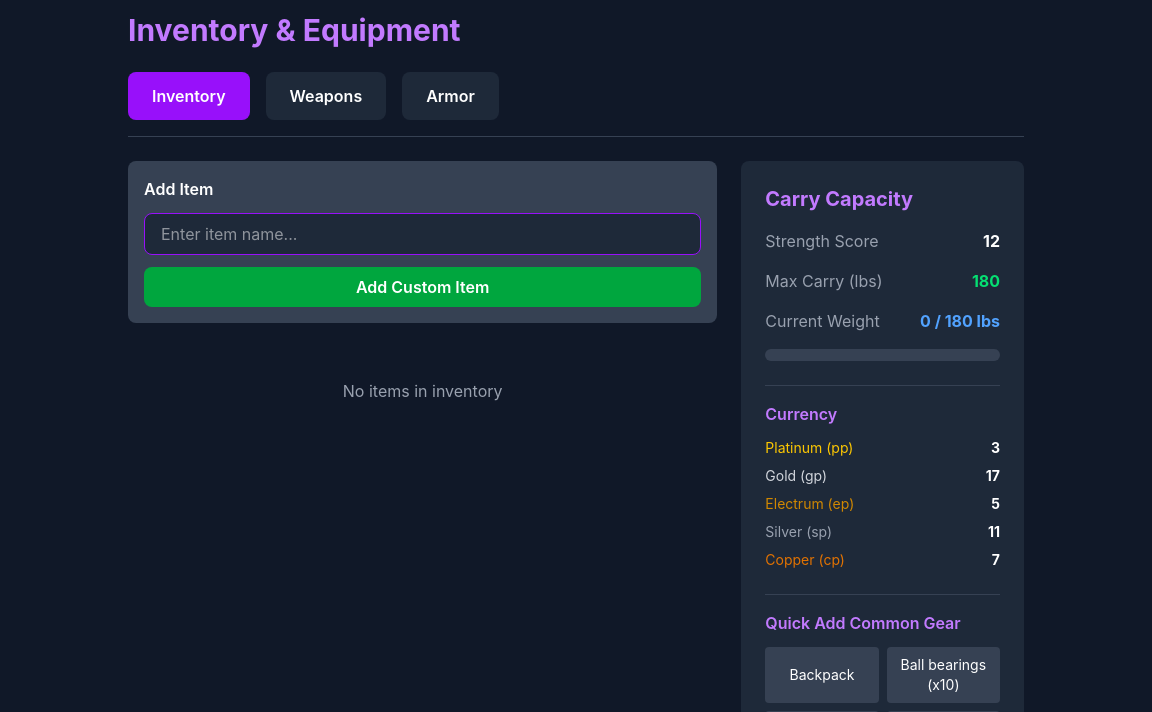
Test: InventoryManager › increments, decrements, and removes an inventory item
The image size is (1152, 712).
In the field with placeholder "Enter item name...": (423,234) [144,213,701,255], type "Custom compass"
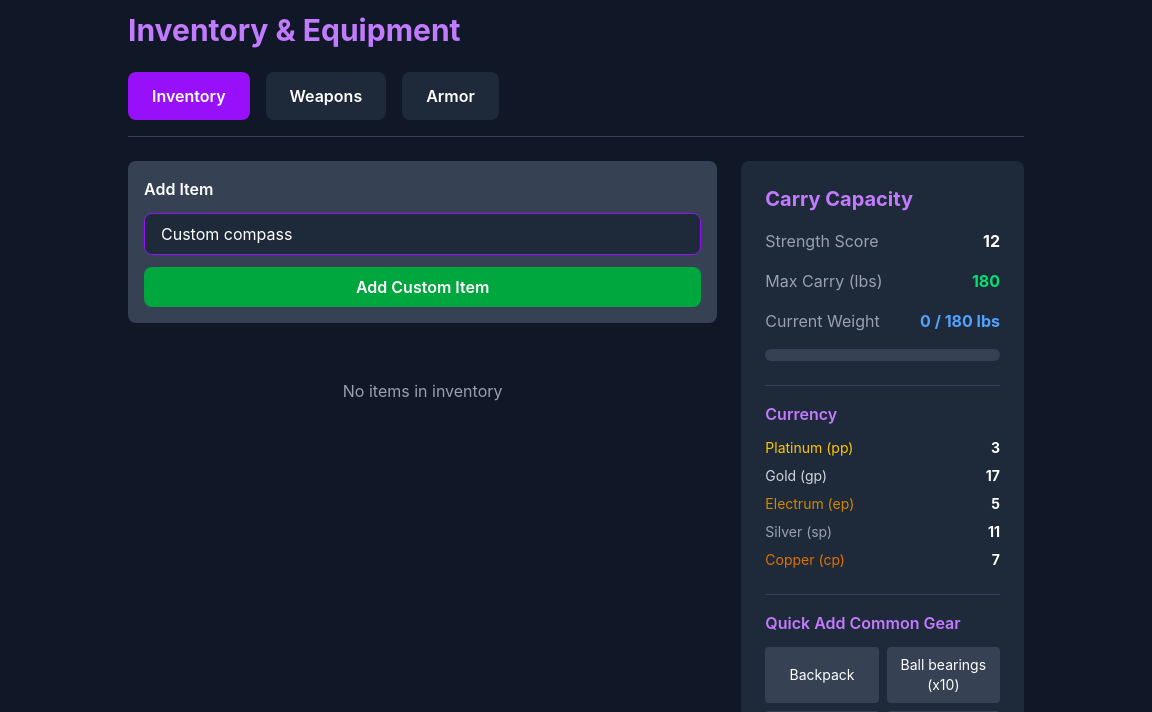
Click the button "Add Custom Item": (423,287) [144,267,701,307]
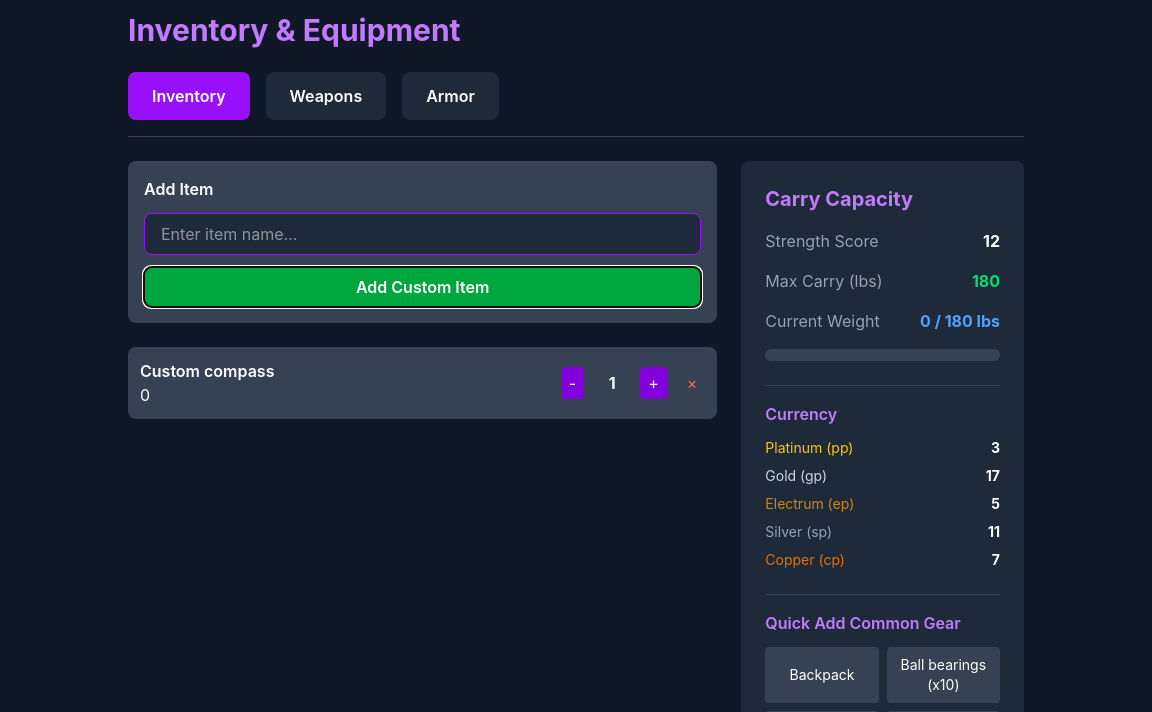
Click the button "+": (653,383) [640,367,667,399]
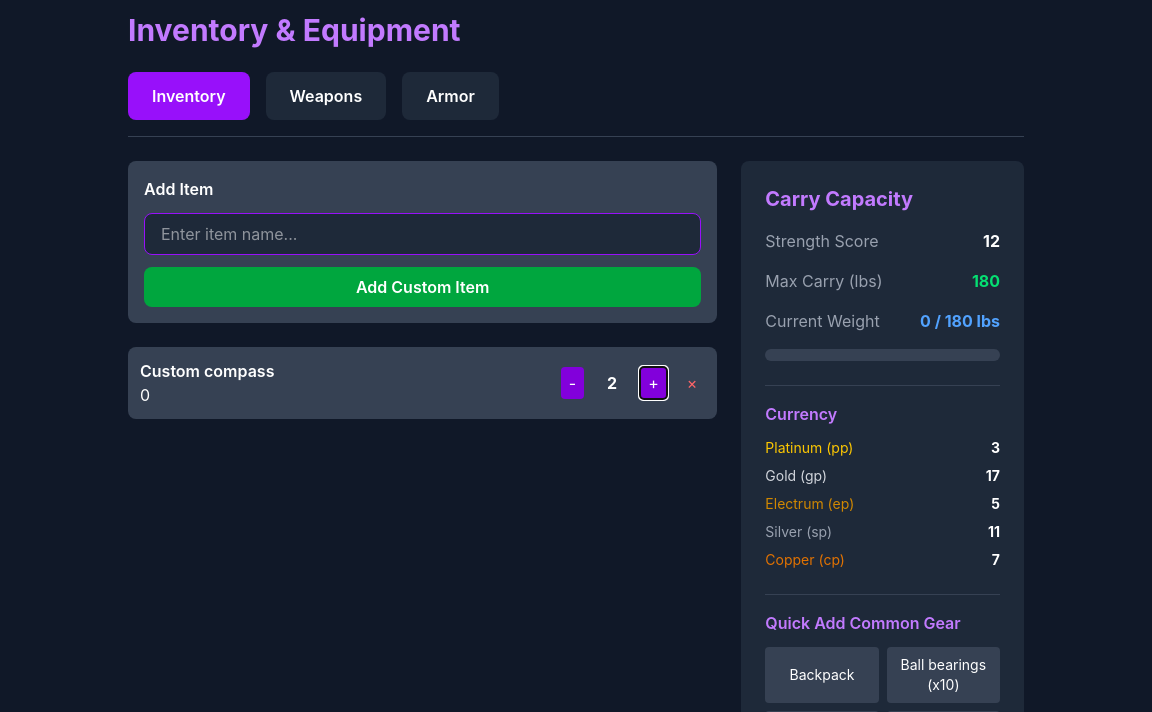
Now the text "2" is shown, box [607,373,617,393]
Click the button "-": (572,383) [561,367,584,399]
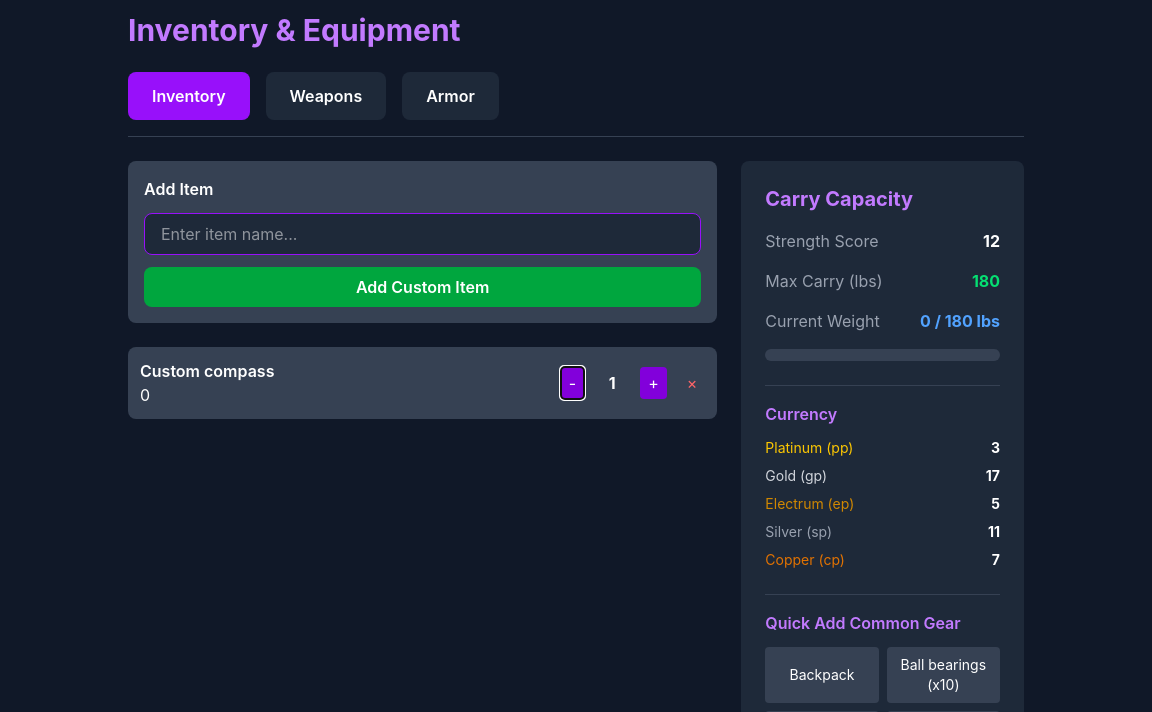
Now the text "1" is shown, box [609,373,616,393]
Click the button "×": (692,383) [679,371,705,395]
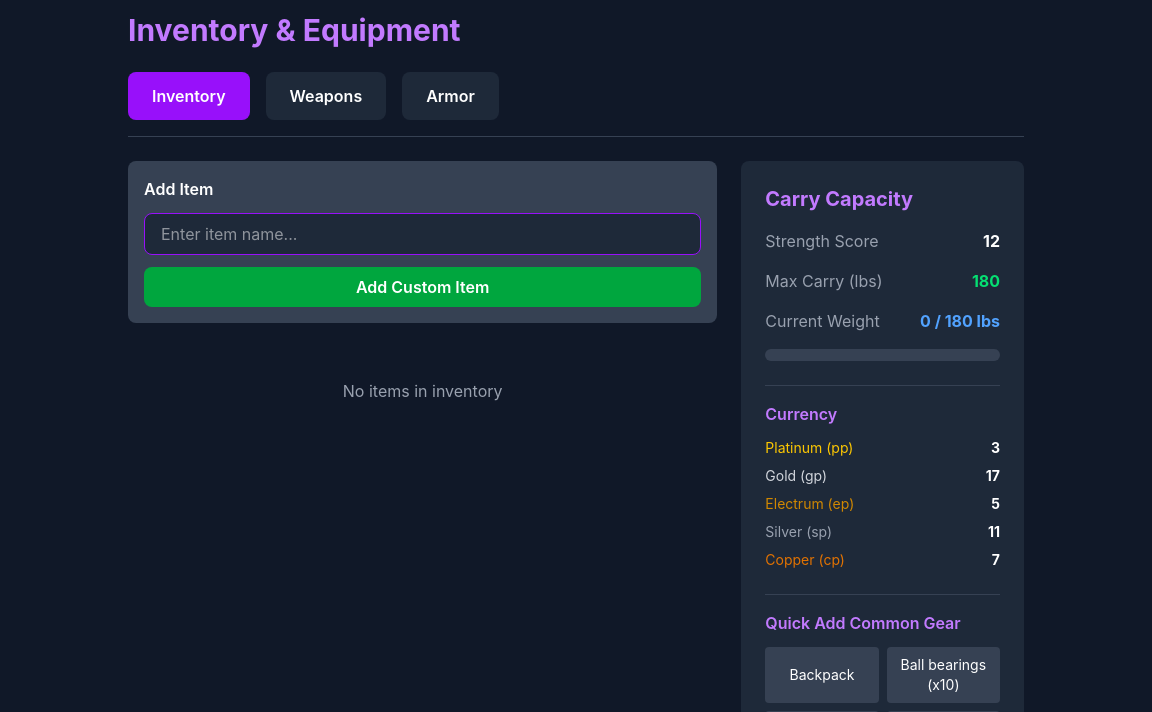
Now the text "Custom compass" is gone
Now the text "No items in inventory" is shown, box [343,381,502,401]
